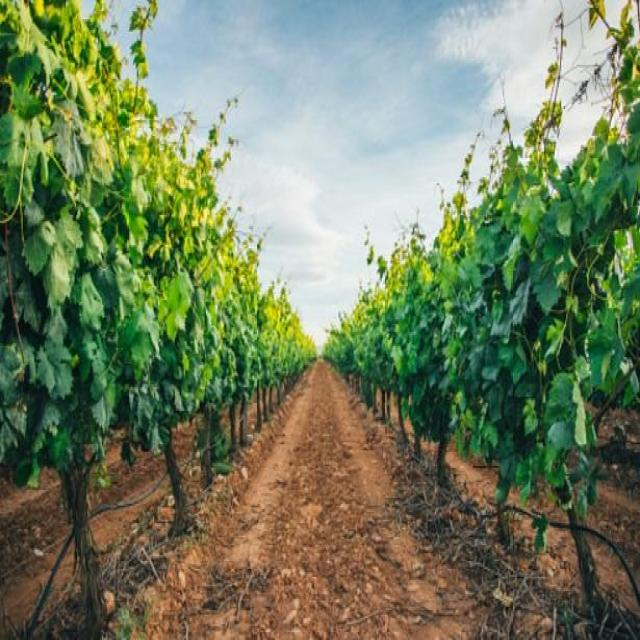row: (128, 354, 550, 640)
